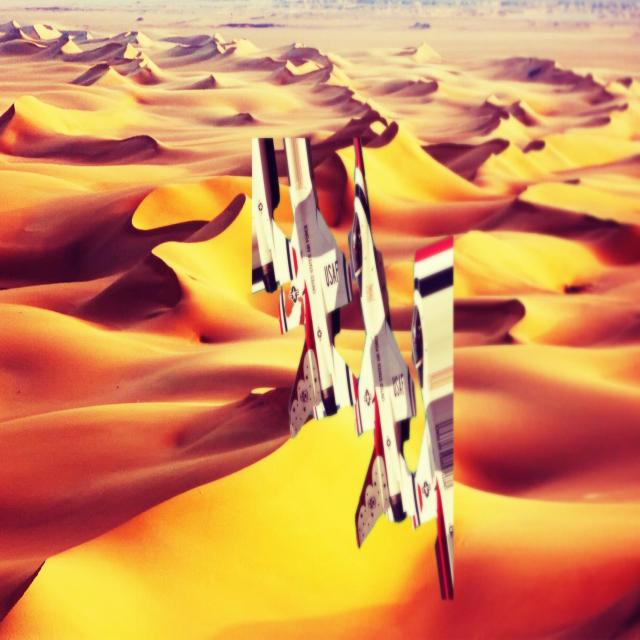airplane: (348, 134, 420, 553), (277, 136, 359, 438), (413, 235, 453, 599), (252, 140, 297, 294)
